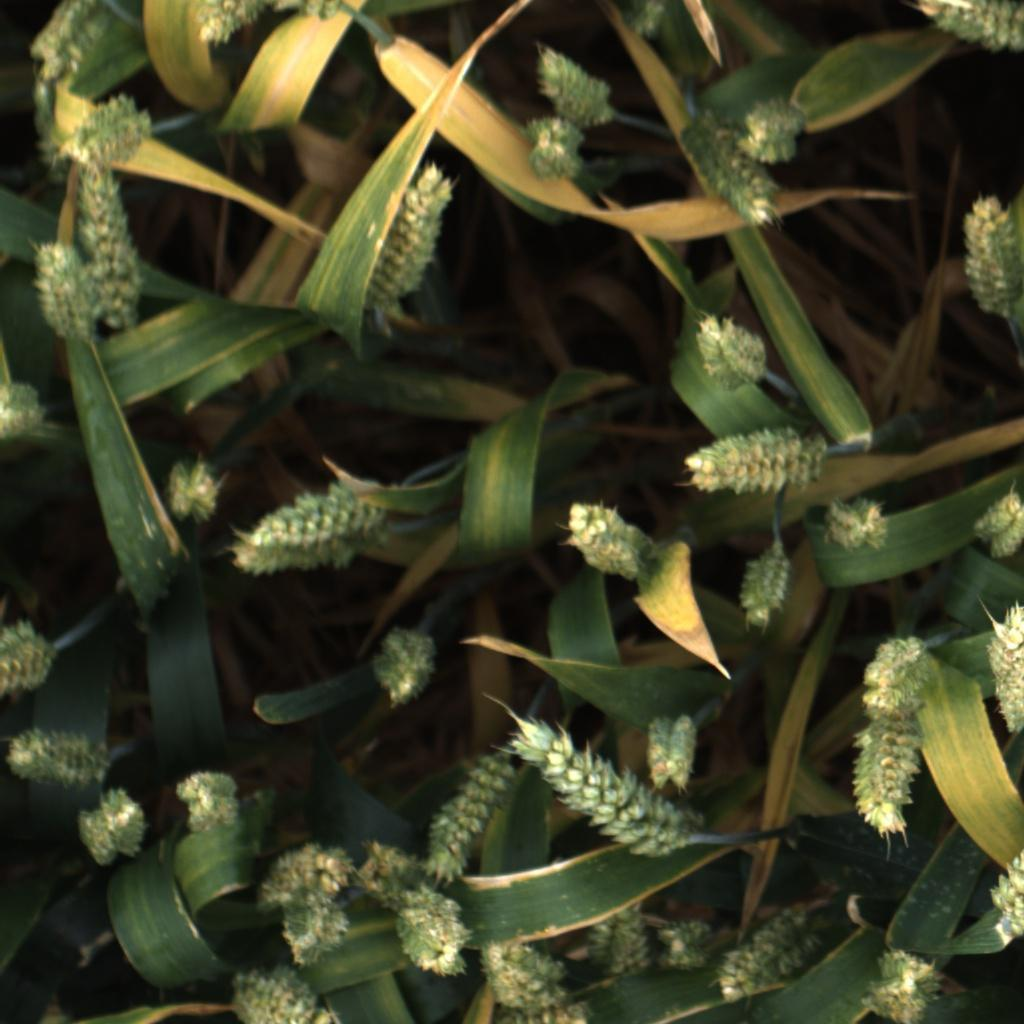0-0: (510, 712, 714, 878), (25, 0, 101, 184), (715, 897, 836, 1008), (659, 119, 779, 228), (419, 747, 514, 882), (369, 157, 453, 306), (76, 156, 145, 317), (675, 421, 823, 493), (847, 726, 932, 839), (246, 485, 389, 552), (850, 627, 939, 727), (535, 41, 626, 136), (954, 195, 1020, 319), (687, 306, 773, 397), (480, 933, 575, 1015), (559, 496, 652, 579), (55, 93, 152, 170), (29, 232, 94, 345), (909, 0, 1024, 63), (393, 892, 472, 982), (224, 543, 355, 595), (368, 623, 442, 711), (256, 838, 349, 906), (975, 825, 1024, 954), (867, 946, 948, 1024), (977, 597, 1024, 731), (732, 545, 799, 636), (10, 725, 112, 784), (230, 969, 339, 1024), (582, 899, 654, 979), (272, 891, 345, 967), (82, 786, 153, 864), (737, 98, 820, 163), (819, 493, 899, 557), (2, 612, 65, 693), (170, 765, 244, 833), (644, 712, 709, 788), (354, 838, 425, 904), (3, 369, 64, 445), (519, 114, 587, 182), (647, 916, 720, 979), (186, 0, 265, 54), (158, 456, 225, 519), (973, 483, 1024, 563), (619, 0, 672, 44), (267, 0, 343, 18)
